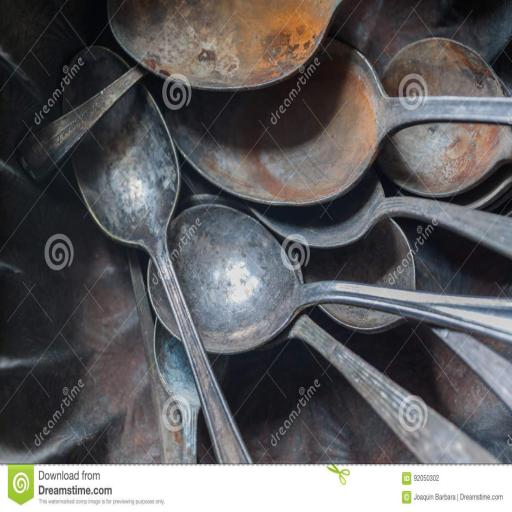segmentation: (161, 39, 400, 205), (108, 0, 340, 91), (380, 123, 512, 196), (383, 40, 503, 95)
